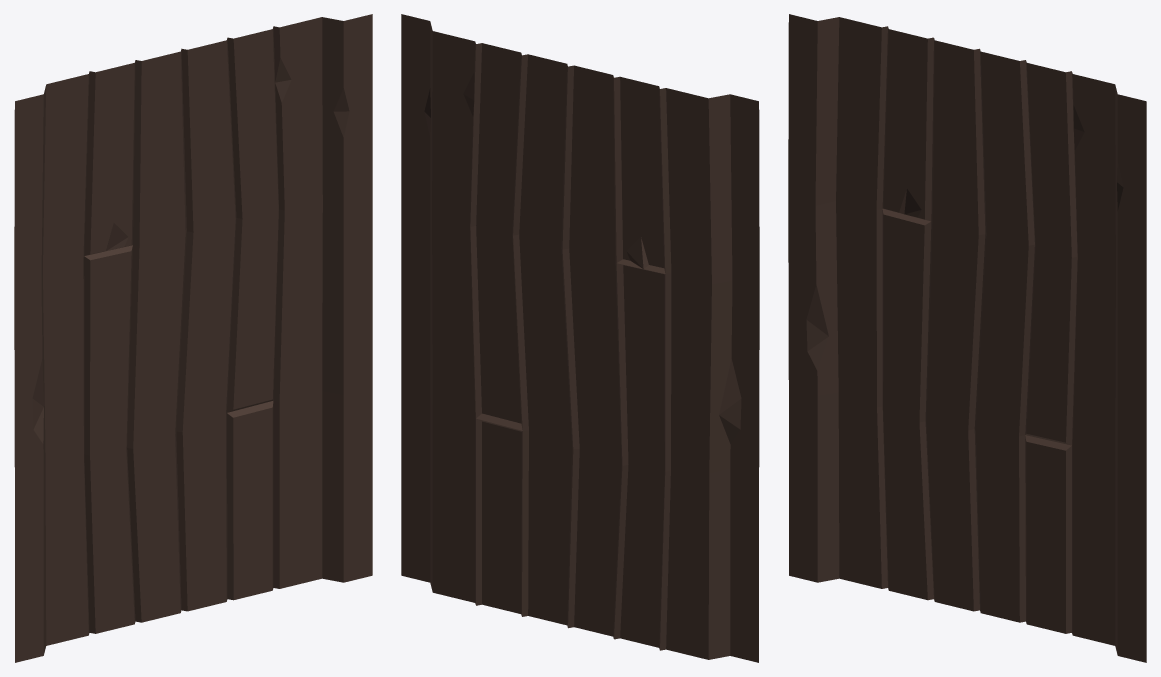
Rendered from LPHorror_2MWallC.fbx.
3 views of the same model, side by side, from view 1: azimuth 30°, elevation 25°; view 2: azimuth 150°, elevation 25°; view 3: azimuth 330°, elevation 25° (orthographic).
Visible parts, largest first — view 1: 2MWallC; view 2: 2MWallC; view 3: 2MWallC.
Part boxes in pixels (<box>): 2MWallC: <box>14,14,372,662</box>; 2MWallC: <box>401,14,759,662</box>; 2MWallC: <box>788,14,1146,662</box>.
Bounding box in the file's own units: 200 × 300 × 11.85.
